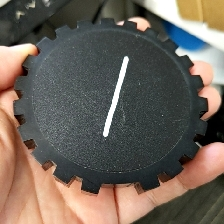gear: (12, 16, 210, 196)
missing: (82, 174, 162, 196)
